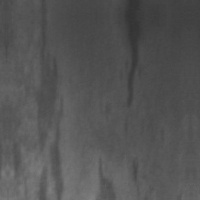inclusion: (8, 17, 66, 199), (119, 16, 145, 109), (92, 154, 118, 198), (128, 155, 148, 198)
